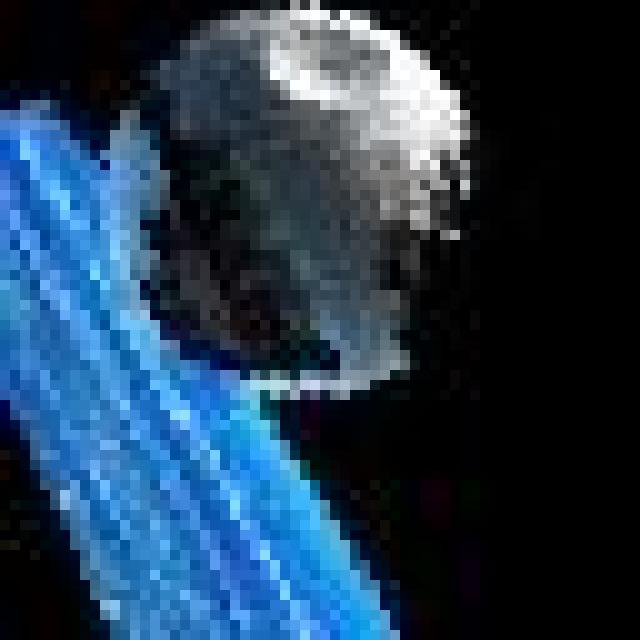Death Star: (93, 0, 482, 396)
